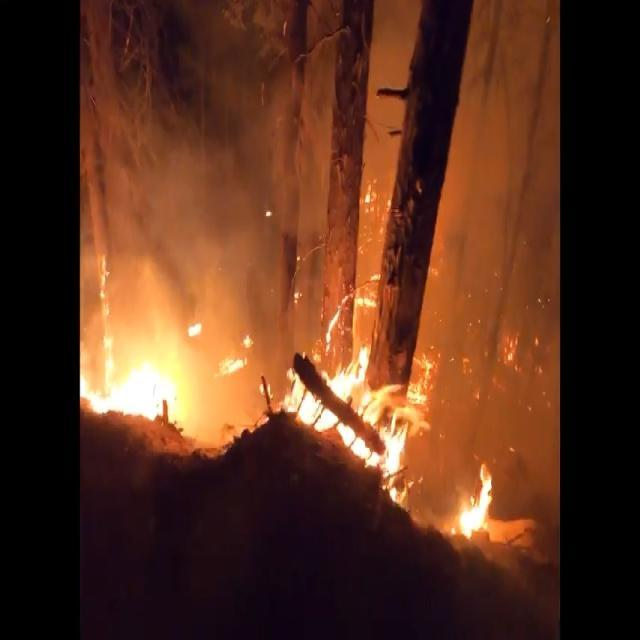Fire: (286, 298, 421, 494), (80, 340, 182, 435), (450, 454, 496, 538)
